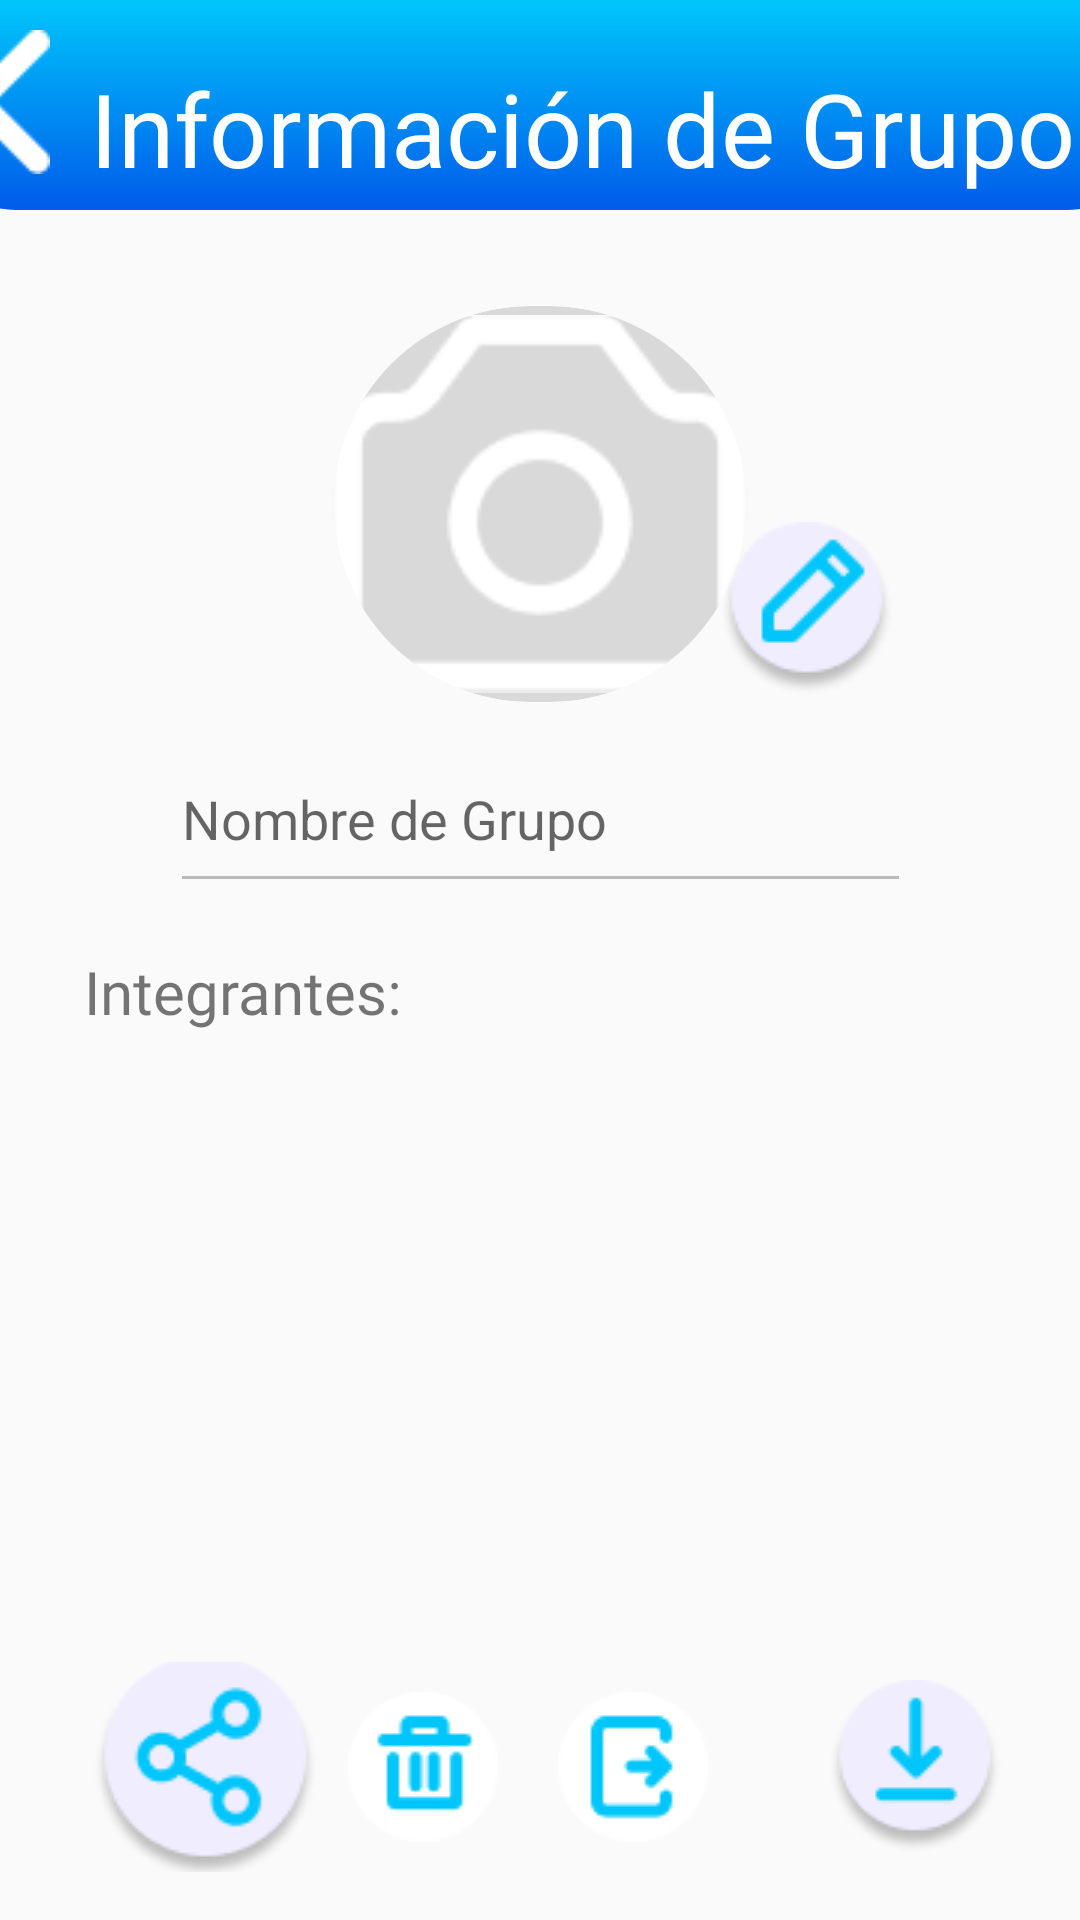

Icon click points for this 1080x1920 phone screenshot, format (x=x, y=y):
Cambiar foto de Grupo: (x=807, y=606)
Compartir Grupo: (x=205, y=1767)
Descargar alertas de Grupo: (x=915, y=1764)
Eliminar Grupo: (x=424, y=1763)
Salir del Grupo: (x=631, y=1767)
